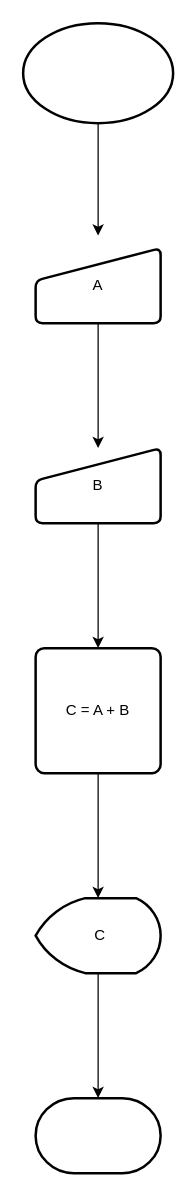
Image size: 195x1195. Some labels were removed from this diagram. The centre of each missing label's shape, as x and y in pixels:
"Fim" goes at point (97, 1135).
"Inicio" goes at point (97, 72).
